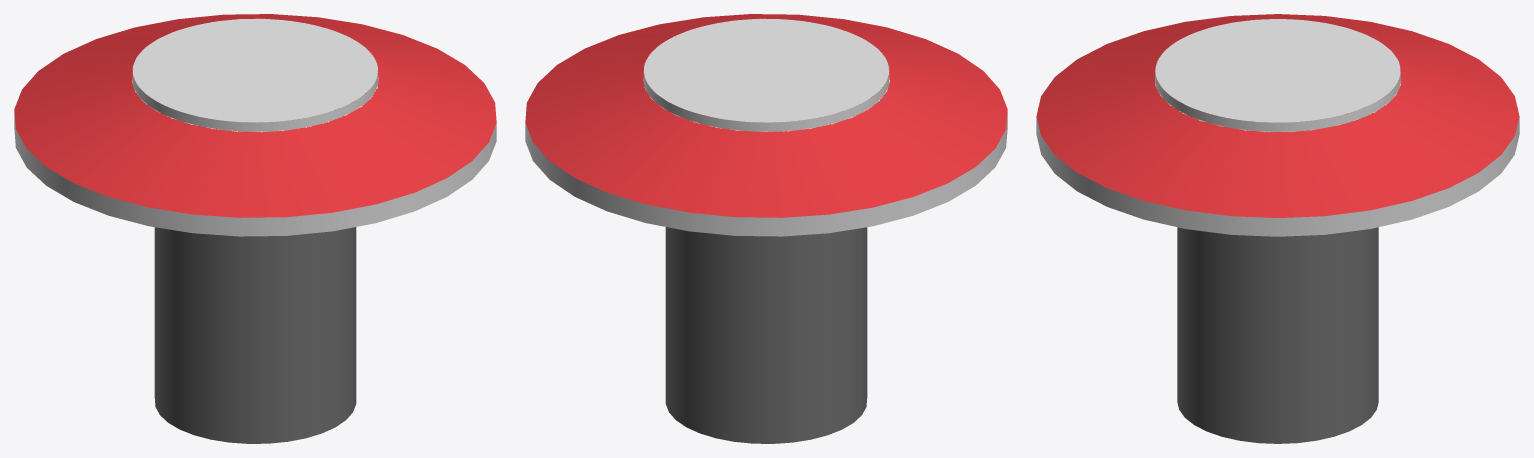
The model's file is Bumper01.fbx.
3 views of the same model, side by side, from view 1: azimuth 30°, elevation 25°; view 2: azimuth 150°, elevation 25°; view 3: azimuth 270°, elevation 25° (orthographic).
Parts seen in each view (by area): view 1: Bumper.001; view 2: Bumper.001; view 3: Bumper.001.
Boxes of the visible parts, x1,y1,x2,y2 form: Bumper.001: (14, 14, 496, 443); Bumper.001: (525, 14, 1007, 443); Bumper.001: (1036, 14, 1519, 443).
Bounding box in the file's own units: 355 × 268 × 355.
